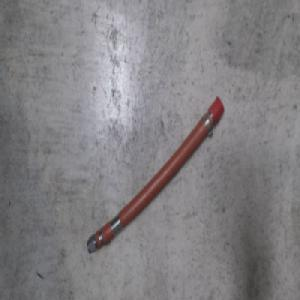Hose: (86, 97, 225, 257)
